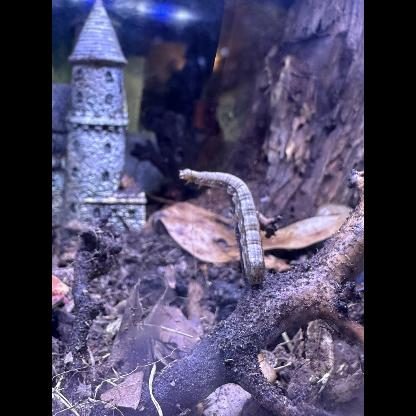Fall Armyworm Larvae: (176, 165, 270, 291)
